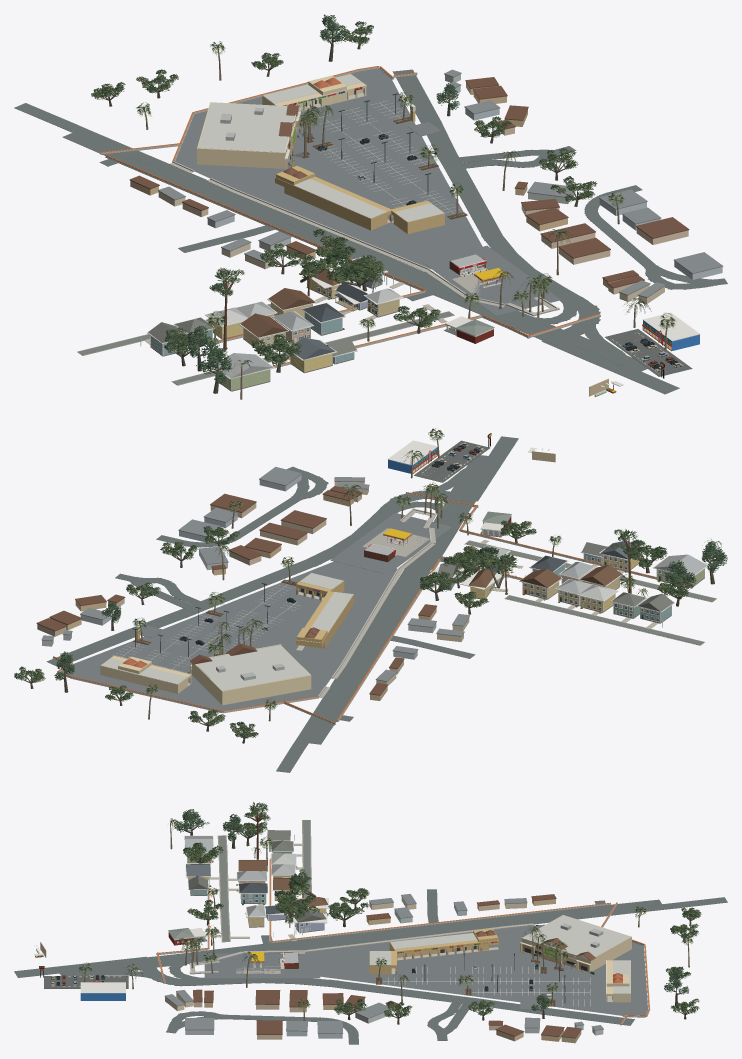
Rendered from plaza.glb.
3 renders of one model, top to bottom at view 1: azimuth 30°, elevation 25°; view 2: azimuth 150°, elevation 25°; view 3: azimuth 270°, elevation 25°, orthographic. The views are drawn at different scales.
Visible parts, largest first — view 1: ground, architecture, roof, foliage, wood; view 2: ground, architecture, roof, foliage, wood, glass; view 3: ground, architecture, roof, foliage, wood.
Boxes of the visible parts, bbox=[...] form: ground: bbox=[14, 68, 727, 394]; architecture: bbox=[100, 66, 722, 397]; roof: bbox=[129, 69, 723, 378]; foliage: bbox=[91, 14, 675, 383]; wood: bbox=[96, 20, 681, 399]; ground: bbox=[46, 436, 716, 772]; architecture: bbox=[37, 433, 708, 725]; roof: bbox=[36, 466, 707, 695]; foliage: bbox=[14, 428, 727, 738]; wood: bbox=[18, 431, 722, 743]; glass: bbox=[181, 444, 683, 642]; ground: bbox=[14, 820, 727, 1044]; architecture: bbox=[34, 830, 650, 1043]; roof: bbox=[164, 830, 630, 1038]; foliage: bbox=[79, 802, 701, 1017]; wood: bbox=[35, 805, 698, 1024].
Size of the model in its own units: 302 by 38.45 by 406.
